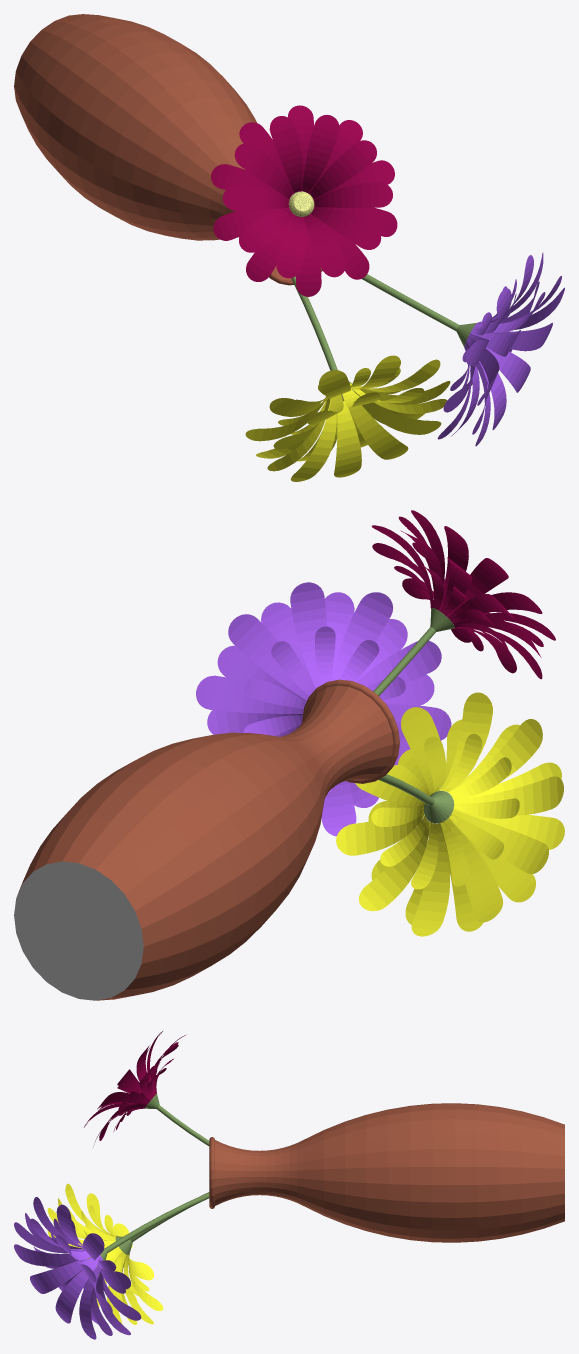
3 views of the same model, one above another, from view 1: azimuth 30°, elevation 25°; view 2: azimuth 150°, elevation 25°; view 3: azimuth 270°, elevation 25° (orthographic). The views are drawn at different scales.
Visible parts, largest first — view 1: flower vase; view 2: flower vase; view 3: flower vase.
Boxes of the visible parts, <box> form: flower vase: <box>14,14,564,481</box>; flower vase: <box>14,510,564,1000</box>; flower vase: <box>14,1031,564,1339</box>.
Bounding box in the file's own units: 6.2 × 6.86 × 12.4.
